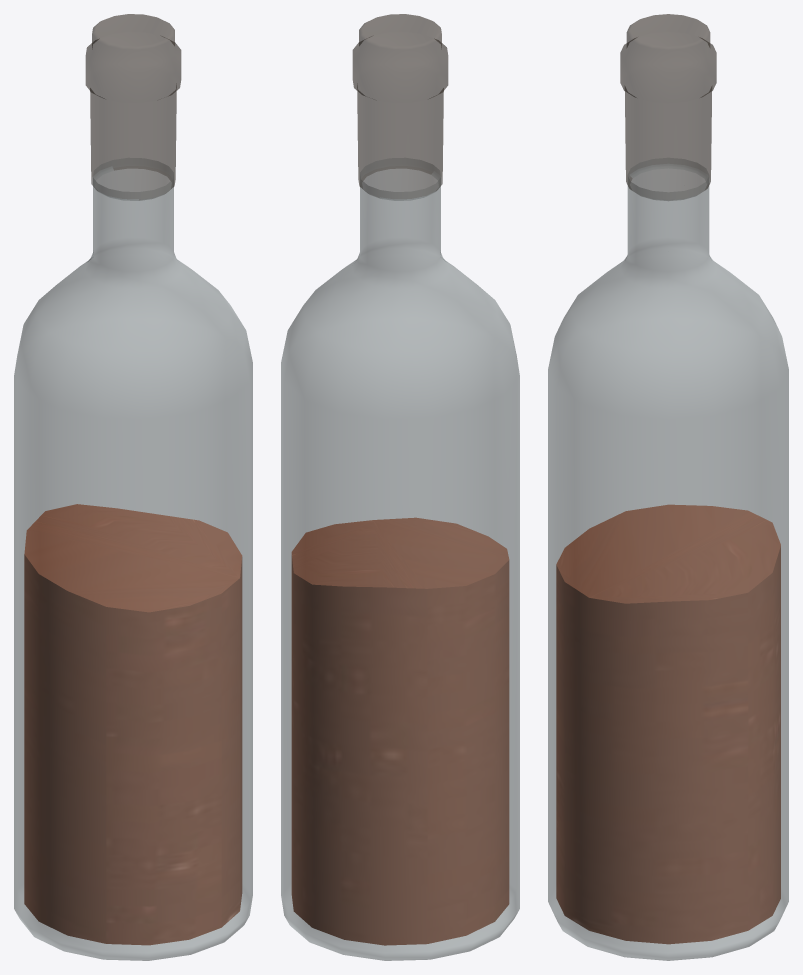
Rendered from apple juice.fbx.
3 views of the same model, side by side, from view 1: azimuth 30°, elevation 25°; view 2: azimuth 150°, elevation 25°; view 3: azimuth 270°, elevation 25° (orthographic).
Visible parts, largest first — view 1: Cylinder, Cylinder1; view 2: Cylinder, Cylinder1; view 3: Cylinder, Cylinder1.
Boxes of the visible parts, x1,y1,x2,y2 form: Cylinder: (14, 14, 252, 960); Cylinder1: (24, 504, 242, 945); Cylinder: (281, 14, 519, 960); Cylinder1: (291, 517, 509, 945); Cylinder: (548, 14, 788, 960); Cylinder1: (556, 504, 780, 944).
Bounding box in the file's own units: 32.75 × 134 × 32.75.
